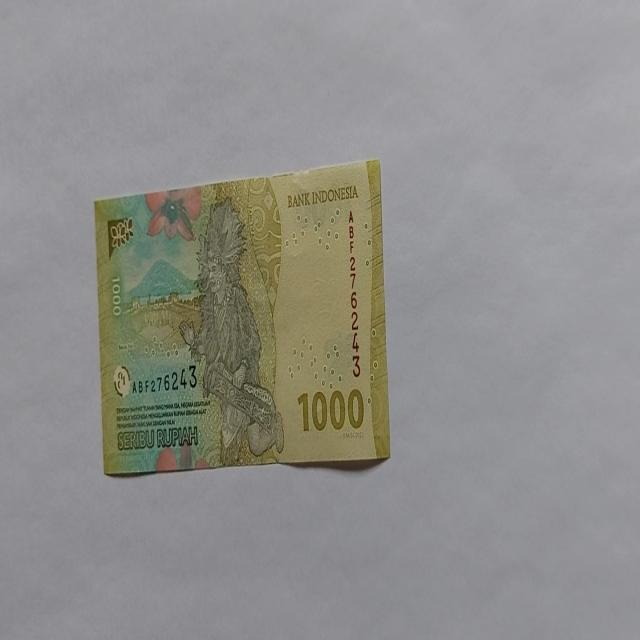seribu rupiah kertas: (94, 156, 390, 476)
